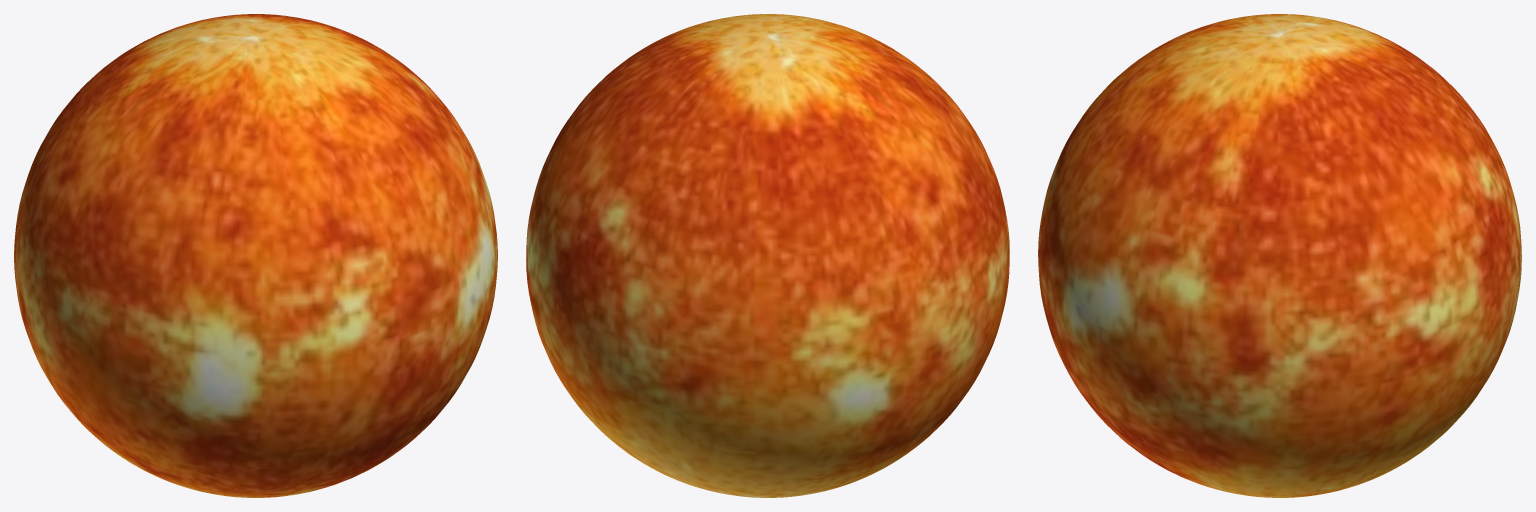
File: sun.gltf
3 views of the same model, side by side, from view 1: azimuth 30°, elevation 25°; view 2: azimuth 150°, elevation 25°; view 3: azimuth 270°, elevation 25° (orthographic).
Parts seen in each view (by area): view 1: Sphere; view 2: Sphere; view 3: Sphere.
Part boxes in pixels (x1=…): Sphere: x1=14, y1=14, x2=497, y2=497; Sphere: x1=526, y1=14, x2=1009, y2=497; Sphere: x1=1038, y1=14, x2=1521, y2=497.
Bounding box in the file's own units: 0.9997 × 1 × 0.9997.
Materials: 1 (1 with a texture image).
